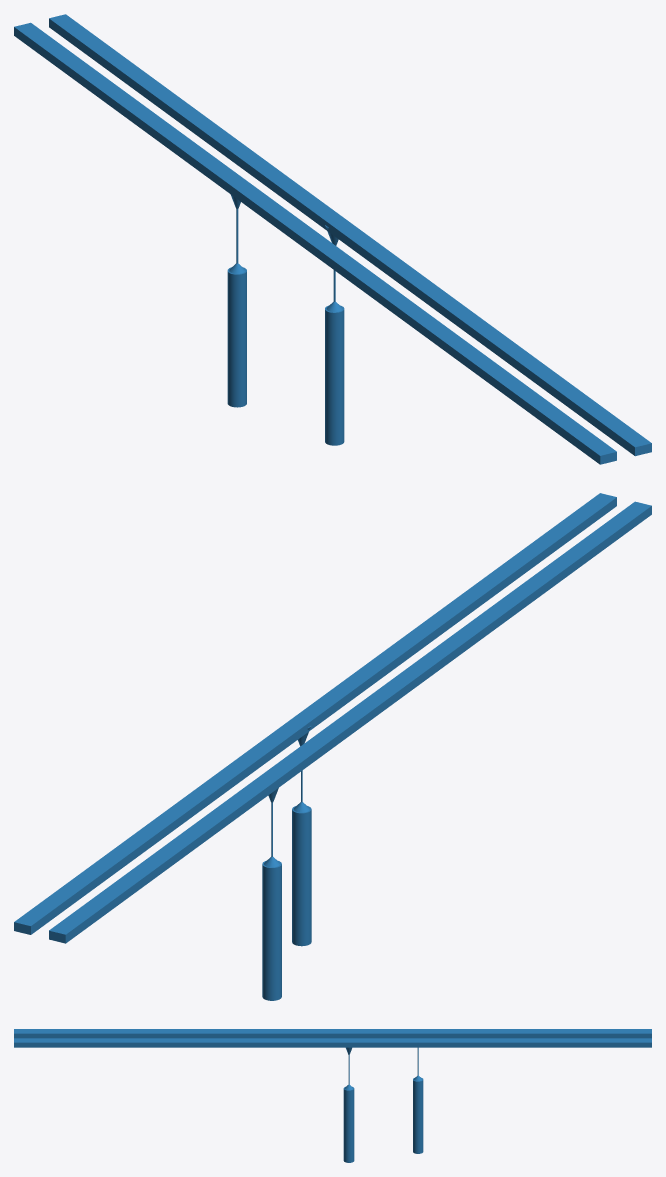
3 views of the same model, one above another, from view 1: azimuth 30°, elevation 25°; view 2: azimuth 150°, elevation 25°; view 3: azimuth 270°, elevation 25° (orthographic). The views are drawn at different scales.
Parts seen in each view (by area): view 1: rail, rail.001, weight, weight.001; view 2: rail, rail.001, weight, weight.001; view 3: rail.001, rail, weight.001, weight.
Boxes of the visible parts, left/top/right/bottom form: rail: left=14, top=22, right=616, bottom=464; rail.001: left=49, top=14, right=651, bottom=456; weight: left=227, top=209, right=246, bottom=407; weight.001: left=325, top=270, right=344, bottom=445; rail: left=49, top=501, right=651, bottom=943; rail.001: left=14, top=493, right=616, bottom=934; weight: left=262, top=802, right=281, bottom=1000; weight.001: left=292, top=770, right=311, bottom=946; rail.001: left=14, top=1038, right=651, bottom=1054; rail: left=14, top=1029, right=651, bottom=1038; weight.001: left=343, top=1055, right=354, bottom=1162; weight: left=413, top=1047, right=423, bottom=1153.
Bounding box in the file's own units: 0.00613 × 0.025 × 0.12.
